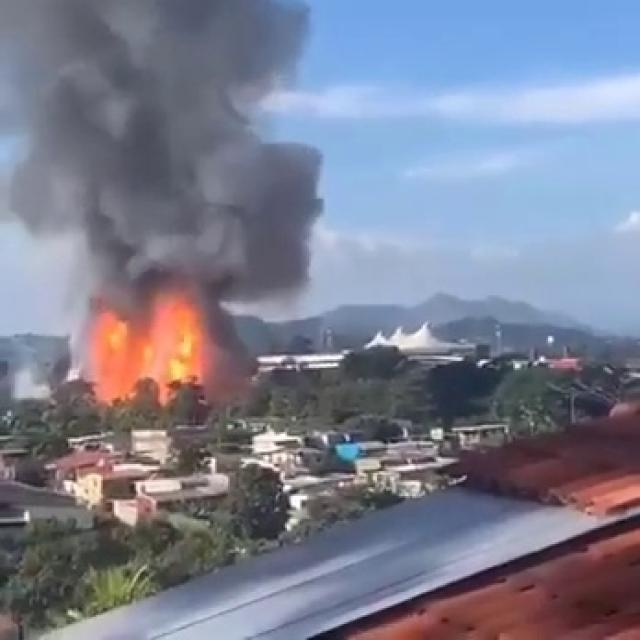Fire: (84, 276, 219, 392)
Smoke: (2, 0, 335, 395)
